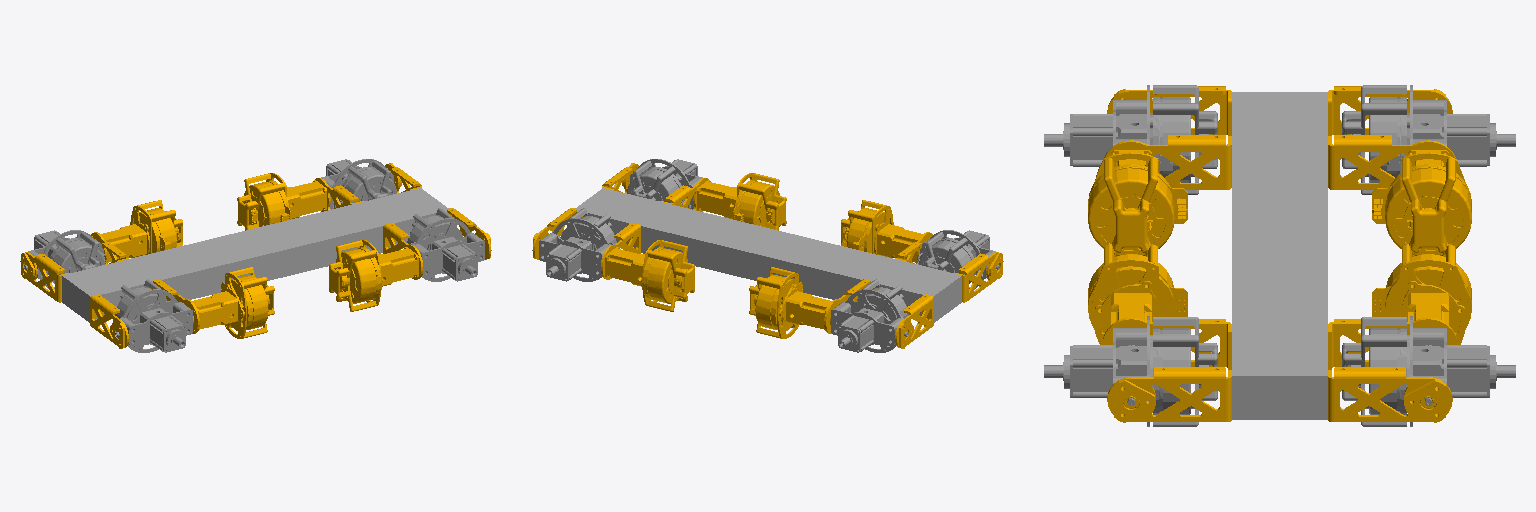
URDF robot description (quadrupedV2):
<?xml version="1.0" ?>
<!-- Generated using onshape-to-robot -->
<!-- Onshape https://cad.onshape.com/documents/c56c7b024fe67f247621574e/w/b966d90009c5abd226fc14d9/e/0b34578ce851a253c0b5c7fa -->
<robot name="quadrupedV2">
  <!-- Connection to world frame -->
  <link name="world" />
  <joint name="world_to_bodysection" type="fixed">
    <parent link="world" />
    <child link="body" />
    <origin xyz="0 0 1.0" rpy="0 0 0" />
  </joint>
  <!-- Link body -->
  <link name="body">
    <inertial>
      <origin xyz="0 0 0.025" rpy="0 0 0"/>
      <mass value="9.41625"/>
      <inertia ixx="0.00981209" ixy="9.43591e-13" ixz="0" iyy="0.383734" iyz="0" izz="0.389621"/>
    </inertial>
    <!-- Part pelvisa -->
    <visual>
      <origin xyz="-0.28375 0.154 0.025" rpy="1.5708 -1.11022e-15 -1.5708"/>
      <geometry>
        <mesh filename="../meshes/pelvisa.obj"/>
      </geometry>
      <material name="pelvisa_material">
        <color rgba="0.980392 0.713725 0.00392157 1.0"/>
      </material>
    </visual>
    <!-- <collision>
      <origin xyz="-0.28375 0.154 0.025" rpy="1.5708 -1.11022e-15 -1.5708"/>
      <geometry>
        <mesh filename="../meshes/pelvisa.obj"/>
      </geometry>
    </collision> -->
    <!-- Part pelvisa_2 -->
    <visual>
      <origin xyz="0.28375 -0.154 0.025" rpy="1.5708 -1.11022e-15 1.5708"/>
      <geometry>
        <mesh filename="../meshes/pelvisa.obj"/>
      </geometry>
      <material name="pelvisa_2_material">
        <color rgba="0.980392 0.713725 0.00392157 1.0"/>
      </material>
    </visual>
    <!-- <collision>
      <origin xyz="0.28375 -0.154 0.025" rpy="1.5708 -1.11022e-15 1.5708"/>
      <geometry>
        <mesh filename="../meshes/pelvisa.obj"/>
      </geometry>
    </collision> -->
    <!-- Part pelvisb -->
    <visual>
      <origin xyz="0.28375 0.154 0.025" rpy="1.5708 1.11022e-15 1.5708"/>
      <geometry>
        <mesh filename="../meshes/pelvisb.obj"/>
      </geometry>
      <material name="pelvisb_material">
        <color rgba="0.980392 0.713725 0.00392157 1.0"/>
      </material>
    </visual>
    <!-- <collision>
      <origin xyz="0.28375 0.154 0.025" rpy="1.5708 1.11022e-15 1.5708"/>
      <geometry>
        <mesh filename="../meshes/pelvisb.obj"/>
      </geometry>
    </collision> -->
    <!-- Part body -->
    <visual>
      <origin xyz="-0.34875 0 0.025" rpy="0 -0 1.5708"/>
      <geometry>
        <mesh filename="../meshes/body.obj"/>
      </geometry>
      <material name="body_material">
        <color rgba="0.701961 0.701961 0.701961 1.0"/>
      </material>
    </visual>
    <!-- <collision>
      <origin xyz="-0.34875 0 0.025" rpy="0 -0 1.5708"/>
      <geometry>
        <mesh filename="../meshes/body.obj"/>
      </geometry>
    </collision> -->
    <!-- Part pelvisb_2 -->
    <visual>
      <origin xyz="-0.28375 -0.154 0.025" rpy="1.5708 1.11022e-15 -1.5708"/>
      <geometry>
        <mesh filename="../meshes/pelvisb.obj"/>
      </geometry>
      <material name="pelvisb_2_material">
        <color rgba="0.980392 0.713725 0.00392157 1.0"/>
      </material>
    </visual>
    <!-- <collision>
      <origin xyz="-0.28375 -0.154 0.025" rpy="1.5708 1.11022e-15 -1.5708"/>
      <geometry>
        <mesh filename="../meshes/pelvisb.obj"/>
      </geometry>
    </collision> -->
    <collision>
      <origin xyz="0.0 0.0 0.025" rpy="0.0 0.0 0.0"/>
      <geometry>
        <box size="0.71 0.4 0.115"/>
      </geometry>
    </collision>
  </link>
  <!-- Link coxab -->
  <link name="coxab">
    <inertial>
      <origin xyz="0 0 0" rpy="0 0 0"/>
      <mass value="1e-09"/>
      <inertia ixx="1.18779e-06" ixy="6.96469e-11" ixz="-8.87738e-11" iyy="5.6673e-07" iyz="7.27282e-08" izz="1.04473e-06"/>
    </inertial>
    <!-- Part coxab -->
    <visual>
      <origin xyz="3.22659e-16 0 0.062" rpy="-3.72756e-26 -2.55506e-26 -3.9937e-44"/>
      <geometry>
        <mesh filename="../meshes/coxab.obj"/>
      </geometry>
      <material name="coxab_material">
        <color rgba="0.647059 0.647059 0.647059 1.0"/>
      </material>
    </visual>
    <!-- <collision>
      <origin xyz="3.22659e-16 0 0.062" rpy="-3.72756e-26 -2.55506e-26 -3.9937e-44"/>
      <geometry>
        <mesh filename="../meshes/coxab.obj"/>
      </geometry>
    </collision> -->
    <collision>
      <origin xyz="0.00 0.01 0.0620" rpy="1.5708 0.0 0.0" />
      <geometry>
        <cylinder radius="0.0575" length="0.163" />
      </geometry>
    </collision>
  </link>
  <!-- Link femurl -->
  <link name="femurl">
    <inertial>
      <origin xyz="0 0 0" rpy="0 0 0"/>
      <mass value="1e-09"/>
      <inertia ixx="4.41608e-07" ixy="-4.73405e-07" ixz="2.74431e-07" iyy="1.47972e-05" iyz="-1.23653e-08" izz="1.46821e-05"/>
    </inertial>
    <!-- Part femurl -->
    <visual>
      <origin xyz="-7.21645e-16 -6.34909e-16 0.064" rpy="-3.45127e-31 9.61424e-31 1.2326e-31"/>
      <geometry>
        <mesh filename="../meshes/femurl.obj"/>
      </geometry>
      <material name="femurl_material">
        <color rgba="0.647059 0.647059 0.647059 1.0"/>
      </material>
    </visual>
    <collision>
      <origin xyz="-7.21645e-16 -6.34909e-16 0.064" rpy="-3.45127e-31 9.61424e-31 1.2326e-31"/>
      <geometry>
        <mesh filename="../meshes/femurl.obj"/>
      </geometry>
    </collision>
  </link>
  <!-- Link tibia -->
  <link name="tibia">
    <inertial>
      <origin xyz="0 0 0" rpy="0 0 0"/>
      <mass value="1e-09"/>
      <inertia ixx="4.16674e-06" ixy="-6.57069e-08" ixz="-3.45203e-13" iyy="4.08032e-08" iyz="-3.30086e-12" izz="4.17202e-06"/>
    </inertial>
    <!-- Part tibia -->
    <visual>
      <origin xyz="0 3.46945e-18 0" rpy="-1.10816e-30 1.19993e-30 -7.39557e-32"/>
      <geometry>
        <mesh filename="../meshes/tibia.obj"/>
      </geometry>
      <material name="tibia_material">
        <color rgba="0.768627 0.886275 0.952941 1.0"/>
      </material>
    </visual>
    <collision>
      <origin xyz="0 3.46945e-18 0" rpy="-1.10816e-30 1.19993e-30 -7.39557e-32"/>
      <geometry>
        <mesh filename="../meshes/tibia.obj"/>
      </geometry>
    </collision>
  </link>
  <!-- Joint from femurl to tibia -->
  <joint name="Knee1" type="revolute">
    <origin xyz="0.370345 -3.46945e-18 0.064" rpy="2.9923e-15 -1.55118e-14 -2.22045e-16"/>
    <parent link="femurl"/>
    <child link="tibia"/>
    <axis xyz="0 0 1"/>
    <limit effort="10" velocity="10" lower="-3.141592653589793" upper="3.141592653589793"/>
  </joint>
  <!-- Joint from coxab to femurl -->
  <joint name="HipFE1" type="revolute">
    <origin xyz="3.08781e-16 -0.0705 0.062" rpy="1.5708 1.5708 0"/>
    <parent link="coxab"/>
    <child link="femurl"/>
    <axis xyz="0 0 1"/>
    <limit effort="10" velocity="10" lower="-3.141592653589793" upper="3.141592653589793"/>
  </joint>
  <!-- Joint from body to coxab -->
  <joint name="HipAA1" type="revolute">
    <origin xyz="0.22175 0.154 0.025" rpy="3.14159 -1.5708 0"/>
    <parent link="body"/>
    <child link="coxab"/>
    <axis xyz="0 0 1"/>
    <limit effort="10" velocity="10" lower="-3.141592653589793" upper="3.141592653589793"/>
  </joint>
  <!-- Link coxaa -->
  <link name="coxaa">
    <inertial>
      <origin xyz="0 0 0" rpy="0 0 0"/>
      <mass value="1e-09"/>
      <inertia ixx="1.18779e-06" ixy="6.96403e-11" ixz="8.87881e-11" iyy="5.66729e-07" iyz="-7.27282e-08" izz="1.04473e-06"/>
    </inertial>
    <!-- Part coxaa -->
    <visual>
      <origin xyz="3.26128e-16 0 -0.062" rpy="-3.14159 2.55506e-26 0"/>
      <geometry>
        <mesh filename="../meshes/coxaa.obj"/>
      </geometry>
      <material name="coxaa_material">
        <color rgba="0.647059 0.647059 0.647059 1.0"/>
      </material>
    </visual>
    <!-- <collision>
      <origin xyz="3.26128e-16 0 -0.062" rpy="-3.14159 2.55506e-26 0"/>
      <geometry>
        <mesh filename="../meshes/coxaa.obj"/>
      </geometry>
    </collision> -->
    <collision>
      <origin xyz="0.00 0.01 -0.0620" rpy="1.5708 0.0 0.0" />
      <geometry>
        <cylinder radius="0.0575" length="0.163" />
      </geometry>
    </collision>
  </link>
  <!-- Link femurl_2 -->
  <link name="femurl_2">
    <inertial>
      <origin xyz="0 0 0" rpy="0 0 0"/>
      <mass value="1e-09"/>
      <inertia ixx="4.41608e-07" ixy="-4.73405e-07" ixz="2.74431e-07" iyy="1.47972e-05" iyz="-1.23653e-08" izz="1.46821e-05"/>
    </inertial>
    <!-- Part femurl_2 -->
    <visual>
      <origin xyz="-7.21645e-16 -6.31439e-16 0.064" rpy="-4.93038e-31 8.80357e-31 4.57834e-41"/>
      <geometry>
        <mesh filename="../meshes/femurl.obj"/>
      </geometry>
      <material name="femurl_2_material">
        <color rgba="0.647059 0.647059 0.647059 1.0"/>
      </material>
    </visual>
    <collision>
      <origin xyz="-7.21645e-16 -6.31439e-16 0.064" rpy="-4.93038e-31 8.80357e-31 4.57834e-41"/>
      <geometry>
        <mesh filename="../meshes/femurl.obj"/>
      </geometry>
    </collision>
  </link>
  <!-- Link tibia_2 -->
  <link name="tibia_2">
    <inertial>
      <origin xyz="0 0 0" rpy="0 0 0"/>
      <mass value="1e-09"/>
      <inertia ixx="4.16674e-06" ixy="-6.57069e-08" ixz="-3.45203e-13" iyy="4.08032e-08" iyz="-3.30086e-12" izz="4.17202e-06"/>
    </inertial>
    <!-- Part tibia_2 -->
    <visual>
      <origin xyz="0 -3.46945e-18 0" rpy="-3.81705e-31 -9.20807e-31 -4.66119e-32"/>
      <geometry>
        <mesh filename="../meshes/tibia.obj"/>
      </geometry>
      <material name="tibia_2_material">
        <color rgba="0.768627 0.886275 0.952941 1.0"/>
      </material>
    </visual>
    <collision>
      <origin xyz="0 -3.46945e-18 0" rpy="-3.81705e-31 -9.20807e-31 -4.66119e-32"/>
      <geometry>
        <mesh filename="../meshes/tibia.obj"/>
      </geometry>
    </collision>
  </link>
  <!-- Joint from femurl_2 to tibia_2 -->
  <joint name="Knee2" type="revolute">
    <origin xyz="0.370345 0 0.064" rpy="1.1545e-14 -1.8851e-14 1.01406e-15"/>
    <parent link="femurl_2"/>
    <child link="tibia_2"/>
    <axis xyz="0 0 1"/>
    <limit effort="10" velocity="10" lower="-3.141592653589793" upper="3.141592653589793"/>
  </joint>
  <!-- Joint from coxaa to femurl_2 -->
  <joint name="HipFE2" type="revolute">
    <origin xyz="3.53884e-16 -0.0705 -0.062" rpy="1.5708 1.5708 0"/>
    <parent link="coxaa"/>
    <child link="femurl_2"/>
    <axis xyz="0 0 1"/>
    <limit effort="10" velocity="10" lower="-3.141592653589793" upper="3.141592653589793"/>
  </joint>
  <!-- Joint from body to coxaa -->
  <joint name="HipAA2" type="revolute">
    <origin xyz="-0.22175 0.154 0.025" rpy="-3.14159 -1.5708 0"/>
    <parent link="body"/>
    <child link="coxaa"/>
    <axis xyz="0 0 1"/>
    <limit effort="10" velocity="10" lower="-3.141592653589793" upper="3.141592653589793"/>
  </joint>
  <!-- Link coxab_2 -->
  <link name="coxab_2">
    <inertial>
      <origin xyz="0 0 0" rpy="0 0 0"/>
      <mass value="1e-09"/>
      <inertia ixx="1.18779e-06" ixy="-6.96469e-11" ixz="8.87738e-11" iyy="5.6673e-07" iyz="7.27282e-08" izz="1.04473e-06"/>
    </inertial>
    <!-- Part coxab_2 -->
    <visual>
      <origin xyz="3.26128e-16 0 -0.062" rpy="3.14159 2.55506e-26 0"/>
      <geometry>
        <mesh filename="../meshes/coxab.obj"/>
      </geometry>
      <material name="coxab_2_material">
        <color rgba="0.647059 0.647059 0.647059 1.0"/>
      </material>
    </visual>
    <!-- <collision>
      <origin xyz="3.26128e-16 0 -0.062" rpy="3.14159 2.55506e-26 0"/>
      <geometry>
        <mesh filename="../meshes/coxab.obj"/>
      </geometry>
    </collision> -->
    <collision>
      <origin xyz="0.00 -0.01 -0.0620" rpy="1.5708 0.0 0.0" />
      <geometry>
        <cylinder radius="0.0575" length="0.163" />
      </geometry>
    </collision>
  </link>
  <!-- Link femurr -->
  <link name="femurr">
    <inertial>
      <origin xyz="0 0 0" rpy="0 0 0"/>
      <mass value="1e-09"/>
      <inertia ixx="4.41608e-07" ixy="-4.73405e-07" ixz="-2.74431e-07" iyy="1.47972e-05" iyz="1.23653e-08" izz="1.46821e-05"/>
    </inertial>
    <!-- Part femurr -->
    <visual>
      <origin xyz="-7.21645e-16 -6.34909e-16 -0.064" rpy="3.9443e-31 -9.61424e-31 0"/>
      <geometry>
        <mesh filename="../meshes/femurr.obj"/>
      </geometry>
      <material name="femurr_material">
        <color rgba="0.647059 0.647059 0.647059 1.0"/>
      </material>
    </visual>
    <collision>
      <origin xyz="-7.21645e-16 -6.34909e-16 -0.064" rpy="3.9443e-31 -9.61424e-31 0"/>
      <geometry>
        <mesh filename="../meshes/femurr.obj"/>
      </geometry>
    </collision>
  </link>
  <!-- Link tibia_3 -->
  <link name="tibia_3">
    <inertial>
      <origin xyz="0 0 0" rpy="0 0 0"/>
      <mass value="1e-09"/>
      <inertia ixx="4.16674e-06" ixy="-6.57069e-08" ixz="-3.45203e-13" iyy="4.08032e-08" iyz="-3.30086e-12" izz="4.17202e-06"/>
    </inertial>
    <!-- Part tibia_3 -->
    <visual>
      <origin xyz="0 0 0" rpy="0 6.31569e-31 0"/>
      <geometry>
        <mesh filename="../meshes/tibia.obj"/>
      </geometry>
      <material name="tibia_3_material">
        <color rgba="0.768627 0.886275 0.952941 1.0"/>
      </material>
    </visual>
    <collision>
      <origin xyz="0 0 0" rpy="0 6.31569e-31 0"/>
      <geometry>
        <mesh filename="../meshes/tibia.obj"/>
      </geometry>
    </collision>
  </link>
  <!-- Joint from femurr to tibia_3 -->
  <joint name="Knee3" type="revolute">
    <origin xyz="0.370345 -1.04083e-17 -0.064" rpy="-3.21434e-15 1.57338e-14 -5.04871e-29"/>
    <parent link="femurr"/>
    <child link="tibia_3"/>
    <axis xyz="0 0 1"/>
    <limit effort="10" velocity="10" lower="-3.141592653589793" upper="3.141592653589793"/>
  </joint>
  <!-- Joint from coxab_2 to femurr -->
  <joint name="HipFE3" type="revolute">
    <origin xyz="3.1225e-16 0.0705 -0.062" rpy="1.5708 1.5708 0"/>
    <parent link="coxab_2"/>
    <child link="femurr"/>
    <axis xyz="0 0 1"/>
    <limit effort="10" velocity="10" lower="-3.141592653589793" upper="3.141592653589793"/>
  </joint>
  <!-- Joint from body to coxab_2 -->
  <joint name="HipAA3" type="revolute">
    <origin xyz="-0.22175 -0.154 0.025" rpy="-3.14159 -1.5708 0"/>
    <parent link="body"/>
    <child link="coxab_2"/>
    <axis xyz="0 0 1"/>
    <limit effort="10" velocity="10" lower="-3.141592653589793" upper="3.141592653589793"/>
  </joint>
  <!-- Link coxaa_2 -->
  <link name="coxaa_2">
    <inertial>
      <origin xyz="0 0 0" rpy="0 0 0"/>
      <mass value="1e-09"/>
      <inertia ixx="1.18779e-06" ixy="6.96403e-11" ixz="8.87881e-11" iyy="5.66729e-07" iyz="-7.27282e-08" izz="1.04473e-06"/>
    </inertial>
    <!-- Part coxaa_2 -->
    <visual>
      <origin xyz="3.26128e-16 0 -0.062" rpy="-3.14159 2.55506e-26 0"/>
      <geometry>
        <mesh filename="../meshes/coxaa.obj"/>
      </geometry>
      <material name="coxaa_2_material">
        <color rgba="0.647059 0.647059 0.647059 1.0"/>
      </material>
    </visual>
    <!-- <collision>
      <origin xyz="3.26128e-16 0 -0.062" rpy="-3.14159 2.55506e-26 0"/>
      <geometry>
        <mesh filename="../meshes/coxaa.obj"/>
      </geometry>
    </collision> -->
    <collision>
      <origin xyz="0.00 0.01 -0.0620" rpy="1.5708 0.0 0.0" />
      <geometry>
        <cylinder radius="0.0575" length="0.163" />
      </geometry>
    </collision>
  </link>
  <!-- Link femurr_2 -->
  <link name="femurr_2">
    <inertial>
      <origin xyz="0 0 0" rpy="0 0 0"/>
      <mass value="1e-09"/>
      <inertia ixx="4.41608e-07" ixy="-4.73405e-07" ixz="-2.74431e-07" iyy="1.47972e-05" iyz="1.23653e-08" izz="1.46821e-05"/>
    </inertial>
    <!-- Part femurr_2 -->
    <visual>
      <origin xyz="9.35139e-05 6.32705e-06 -0.064" rpy="5.91646e-31 -9.49098e-31 -4.93038e-32"/>
      <geometry>
        <mesh filename="../meshes/femurr.obj"/>
      </geometry>
      <material name="femurr_2_material">
        <color rgba="0.647059 0.647059 0.647059 1.0"/>
      </material>
    </visual>
    <collision>
      <origin xyz="9.35139e-05 6.32705e-06 -0.064" rpy="5.91646e-31 -9.49098e-31 -4.93038e-32"/>
      <geometry>
        <mesh filename="../meshes/femurr.obj"/>
      </geometry>
    </collision>
  </link>
  <!-- Link tibia_4 -->
  <link name="tibia_4">
    <inertial>
      <origin xyz="0 0 0" rpy="0 0 0"/>
      <mass value="1e-09"/>
      <inertia ixx="4.16674e-06" ixy="-6.57069e-08" ixz="-3.45203e-13" iyy="4.08032e-08" iyz="-3.30086e-12" izz="4.17202e-06"/>
    </inertial>
    <!-- Part tibia_4 -->
    <visual>
      <origin xyz="0 0 0" rpy="3.54929e-31 -2.14044e-30 7.39557e-32"/>
      <geometry>
        <mesh filename="../meshes/tibia.obj"/>
      </geometry>
      <material name="tibia_4_material">
        <color rgba="0.768627 0.886275 0.952941 1.0"/>
      </material>
    </visual>
    <collision>
      <origin xyz="0 0 0" rpy="3.54929e-31 -2.14044e-30 7.39557e-32"/>
      <geometry>
        <mesh filename="../meshes/tibia.obj"/>
      </geometry>
    </collision>
  </link>
  <!-- Joint from femurr_2 to tibia_4 -->
  <joint name="Knee4" type="revolute">
    <origin xyz="0.370438 6.32705e-06 -0.064" rpy="-3.27319e-15 1.55329e-14 7.39557e-31"/>
    <parent link="femurr_2"/>
    <child link="tibia_4"/>
    <axis xyz="0 0 1"/>
    <limit effort="10" velocity="10" lower="-3.141592653589793" upper="3.141592653589793"/>
  </joint>
  <!-- Joint from coxaa_2 to femurr_2 -->
  <joint name="HipFE4" type="revolute">
    <origin xyz="2.67147e-16 -0.0705 -0.062" rpy="-1.5708 -1.5708 0"/>
    <parent link="coxaa_2"/>
    <child link="femurr_2"/>
    <axis xyz="0 0 1"/>
    <limit effort="10" velocity="10" lower="-3.141592653589793" upper="3.141592653589793"/>
  </joint>
  <!-- Joint from body to coxaa_2 -->
  <joint name="HipAA4" type="revolute">
    <origin xyz="0.22175 -0.154 0.025" rpy="-5.34326e-31 -1.5708 0"/>
    <parent link="body"/>
    <child link="coxaa_2"/>
    <axis xyz="0 0 1"/>
    <limit effort="10" velocity="10" lower="-3.141592653589793" upper="3.141592653589793"/>
  </joint>
</robot>

--- Render facts (derived) ---
The picture shows the robot from 3 angles, left to right: view 1: azimuth 30°, elevation 25°; view 2: azimuth 150°, elevation 25°; view 3: azimuth 270°, elevation 25°; orthographic projection.
Model quadrupedV2 with 14 links and 13 joints (12 revolute, 1 fixed), rooted at world, posed every joint at zero.
Links seen in each view (by area): view 1: body, coxab_2, coxaa_2, coxaa, coxab; view 2: body, coxaa, coxab, coxab_2, coxaa_2; view 3: body, coxab, coxaa_2, coxaa, coxab_2.
Link boxes in pixels (x1=…): body: x1=20, y1=163, x2=491, y2=348; coxab_2: x1=115, y1=279, x2=192, y2=352; coxaa_2: x1=407, y1=208, x2=484, y2=281; coxaa: x1=24, y1=230, x2=105, y2=288; coxab: x1=321, y1=159, x2=396, y2=209; body: x1=532, y1=163, x2=1003, y2=348; coxaa: x1=831, y1=279, x2=908, y2=352; coxab: x1=539, y1=208, x2=616, y2=281; coxab_2: x1=918, y1=230, x2=999, y2=288; coxaa_2: x1=627, y1=159, x2=702, y2=209; body: x1=1088, y1=86, x2=1471, y2=422; coxab: x1=1342, y1=316, x2=1515, y2=426; coxaa_2: x1=1044, y1=316, x2=1217, y2=426; coxaa: x1=1342, y1=85, x2=1515, y2=194; coxab_2: x1=1044, y1=85, x2=1217, y2=194.
Size in the robot's own frame: 0.7201 by 0.488 by 0.1145 metres.
Meshes: 8 distinct files referenced, 9 mesh visuals loaded (5 OBJ); not drawn: 8 (reference not matched to a file when rendering).
